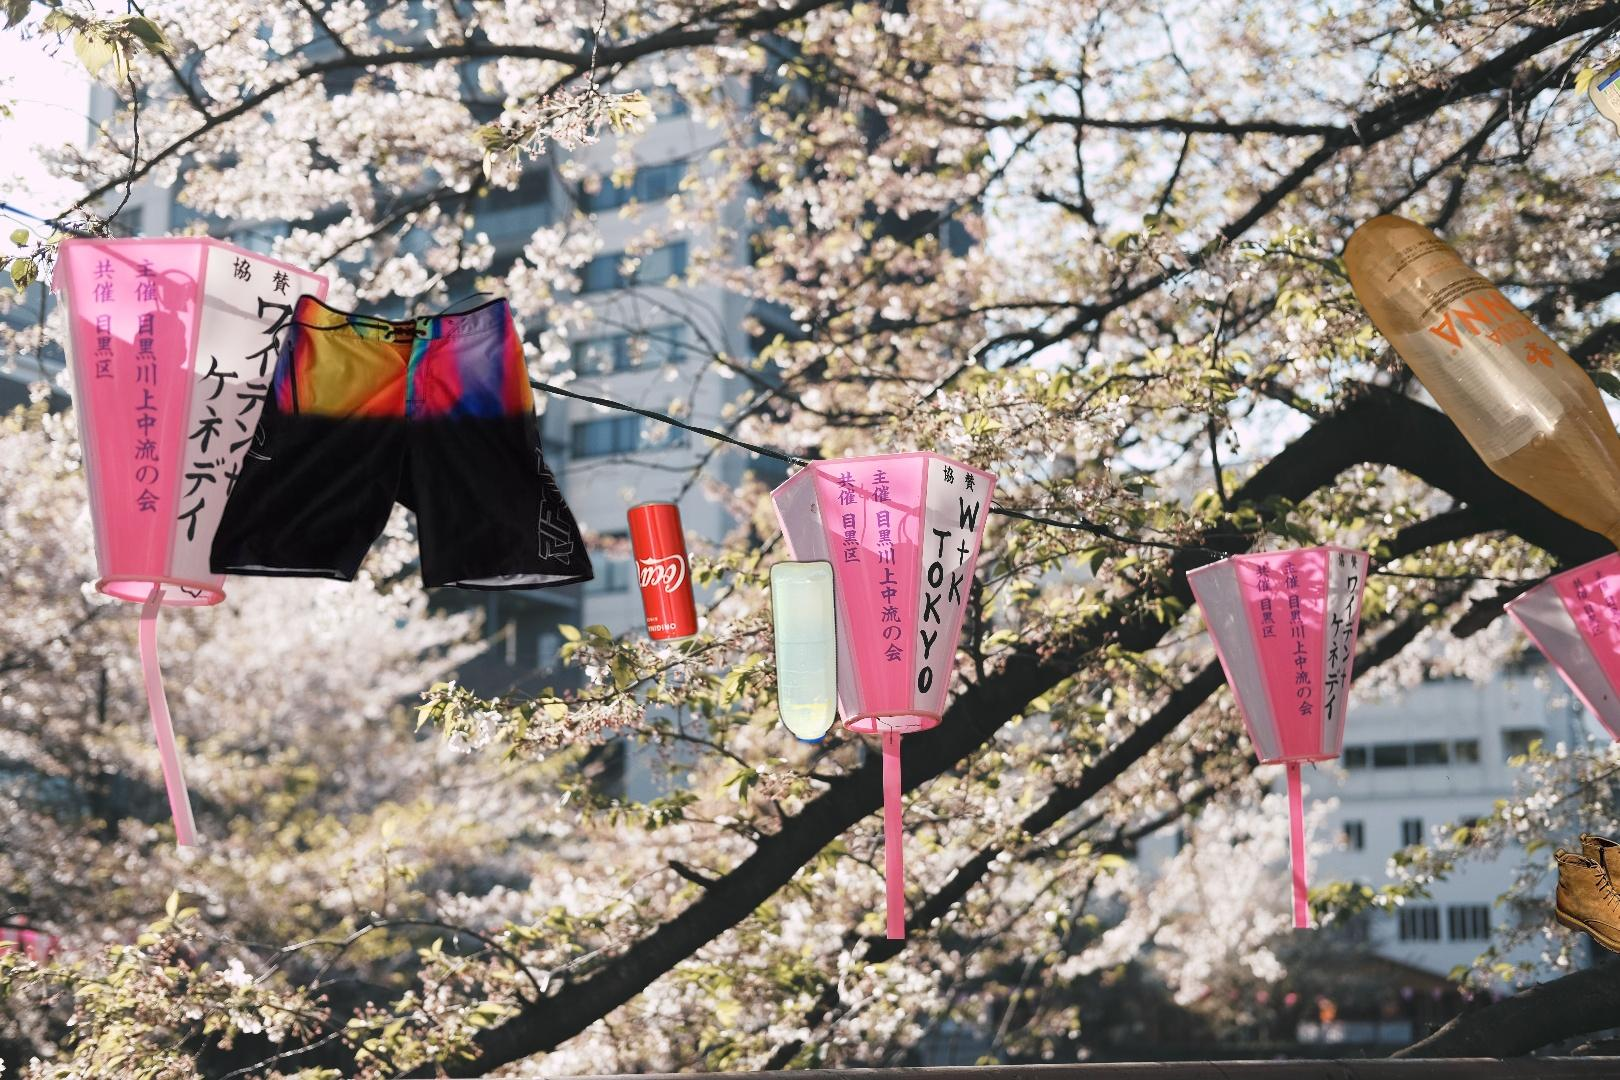clothes: (205, 288, 598, 595)
metal-cans: (622, 495, 703, 648)
penholder: (1562, 811, 1620, 1080)
plastic-bottles: (1337, 209, 1620, 587), (765, 554, 843, 752), (1584, 17, 1620, 157)
shoes: (1551, 781, 1620, 962)
